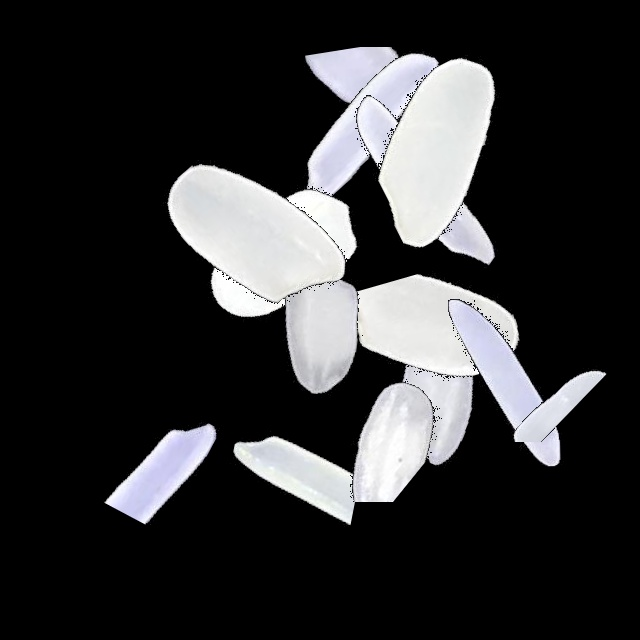Broken: (315, 271, 565, 442), (150, 396, 400, 561), (230, 345, 480, 502), (44, 370, 294, 526), (240, 47, 490, 181), (387, 314, 637, 442)
Full: (314, 267, 564, 517), (128, 103, 378, 353), (241, 1, 491, 251), (160, 133, 410, 383), (298, 58, 548, 308), (316, 24, 566, 274), (378, 256, 628, 506), (197, 193, 447, 443), (127, 110, 377, 360)
